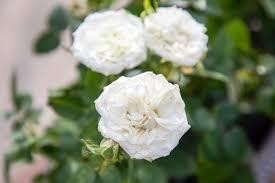Rose: (94, 73, 191, 164), (60, 8, 146, 74), (147, 7, 212, 70)
